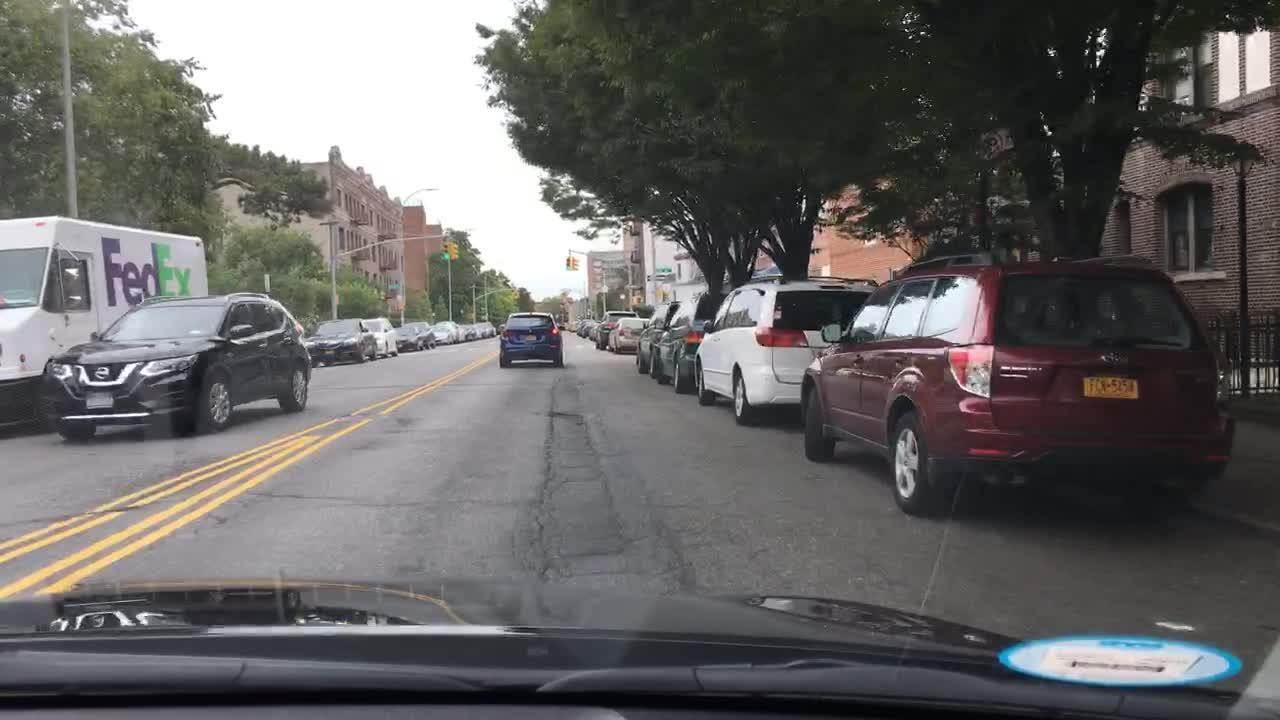Nissan: (93, 366, 110, 380)
subaru: (1092, 347, 1132, 368)
